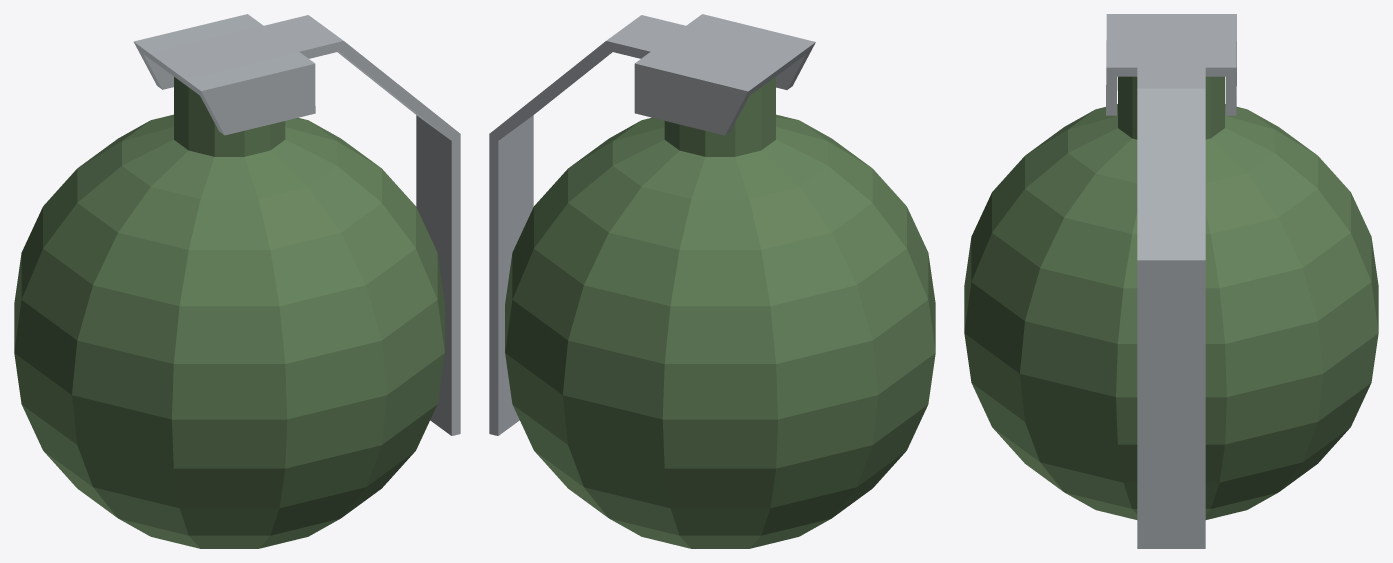
The model's file is Grenade.FBX.
3 views of the same model, side by side, from view 1: azimuth 30°, elevation 25°; view 2: azimuth 150°, elevation 25°; view 3: azimuth 270°, elevation 25° (orthographic). The views are drawn at different scales.
Visible parts, largest first — view 1: Grenade, GrenadeHandle; view 2: Grenade, GrenadeHandle; view 3: Grenade, GrenadeHandle.
Boxes of the visible parts, left/top/right/bottom form: Grenade: left=14, top=77, right=444, bottom=548; GrenadeHandle: left=133, top=14, right=460, bottom=435; Grenade: left=505, top=77, right=935, bottom=548; GrenadeHandle: left=489, top=14, right=815, bottom=435; Grenade: left=964, top=76, right=1378, bottom=519; GrenadeHandle: left=1106, top=14, right=1236, bottom=548.
Size of the model in its own units: 6.58 by 7.53 by 6.13.
